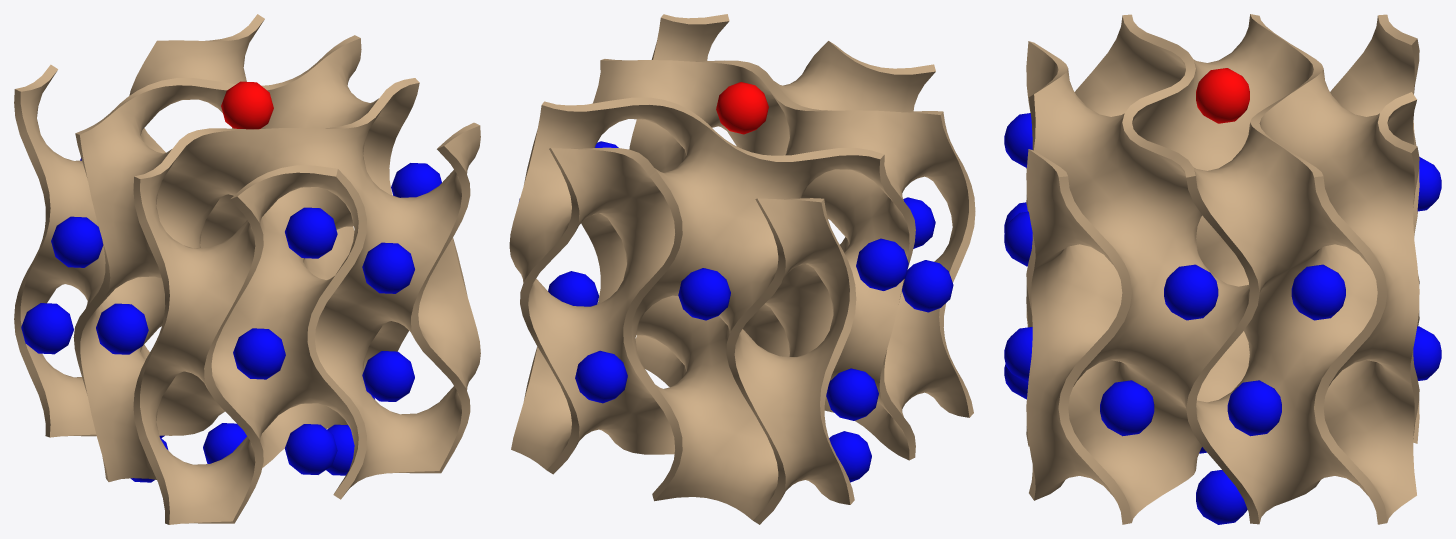
File: Gyroid.glb
The picture shows the model from 3 angles, left to right: view 1: azimuth 30°, elevation 25°; view 2: azimuth 150°, elevation 25°; view 3: azimuth 270°, elevation 25°; orthographic projection. The views are drawn at different scales.
Visible parts, largest first — view 1: Gyroid; view 2: Gyroid; view 3: Gyroid.
Part boxes in pixels (x1,y1,x2,y2): Gyroid: (14, 14, 480, 524); Gyroid: (509, 14, 975, 524); Gyroid: (1004, 14, 1441, 524).
Bounding box in the file's own units: 0.5704 × 0.5704 × 0.5668.
